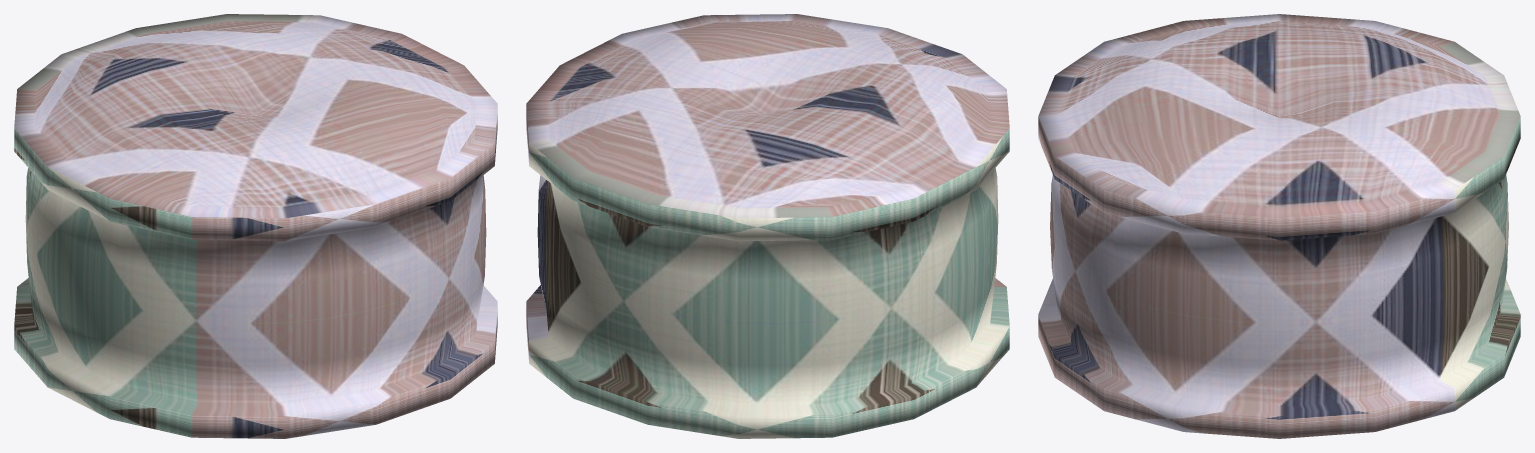
The model's file is G_Seat.fbx.
The picture shows the model from 3 angles, left to right: view 1: azimuth 30°, elevation 25°; view 2: azimuth 150°, elevation 25°; view 3: azimuth 270°, elevation 25°; orthographic projection.
Visible parts, largest first — view 1: Puf; view 2: Puf; view 3: Puf.
Boxes of the visible parts, <box> form: Puf: <box>14,14,497,438</box>; Puf: <box>526,14,1009,438</box>; Puf: <box>1038,14,1520,438</box>.
Size of the model in its own units: 73.2 by 41.86 by 73.2.
